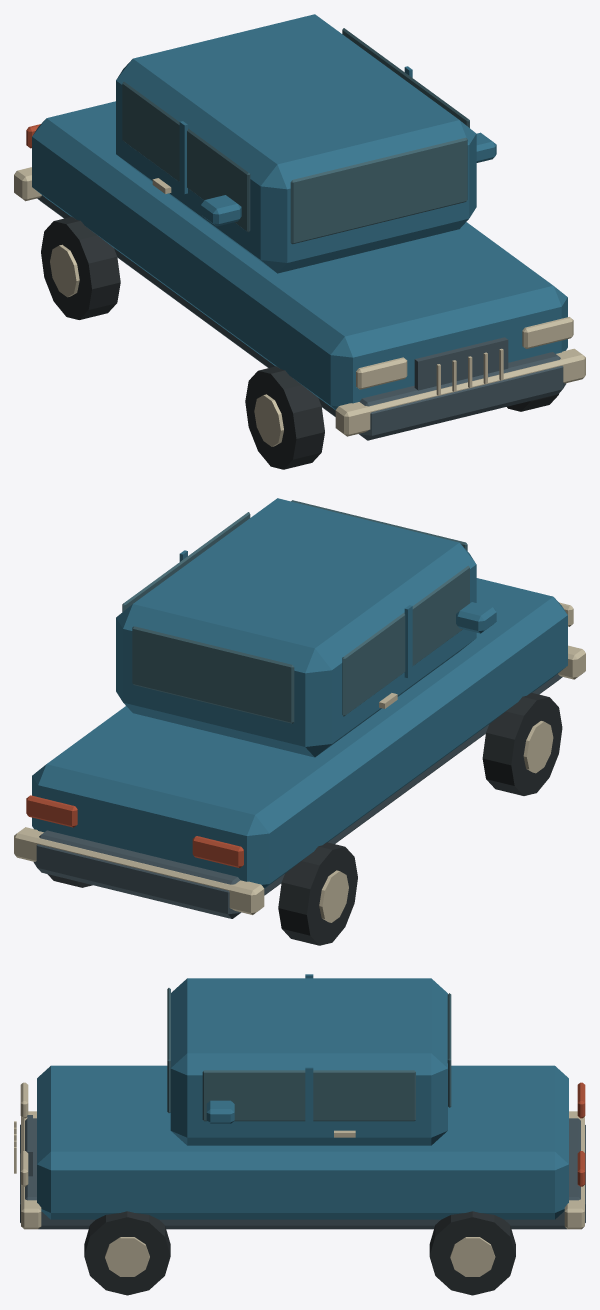
Rendered from vehicle_sedan.glb.
The picture shows the model from 3 angles, top to bottom: view 1: azimuth 30°, elevation 25°; view 2: azimuth 150°, elevation 25°; view 3: azimuth 270°, elevation 25°; orthographic projection. The views are drawn at different scales.
Parts seen in each view (by area): view 1: vehicle_sedan; view 2: vehicle_sedan; view 3: vehicle_sedan.
Part boxes in pixels (x1,y1,x2,y2): vehicle_sedan: (14, 14, 585, 469); vehicle_sedan: (14, 498, 585, 945); vehicle_sedan: (14, 974, 585, 1295).
Size of the model in its own units: 2.18 by 1.95 by 4.5.
